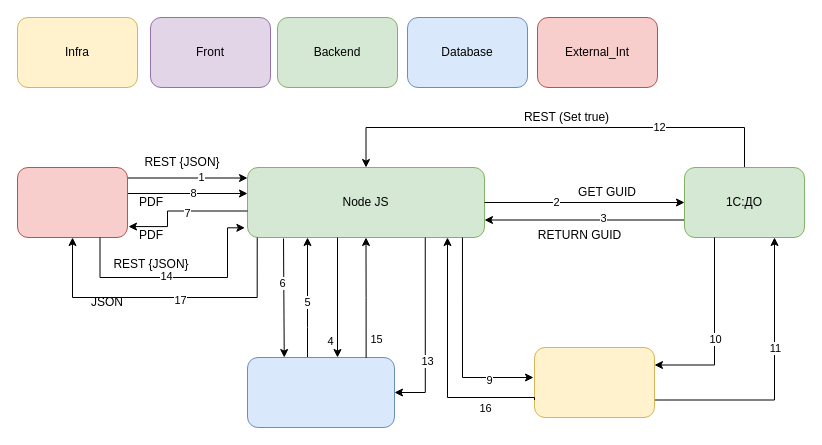
This 822x445 diagram has some shape labels left out. Here are the shapes that lost their labels. From the top down, the centre of each, then its label:
the point at 72,202: Client
the point at 320,392: PG
the point at 594,382: S3
